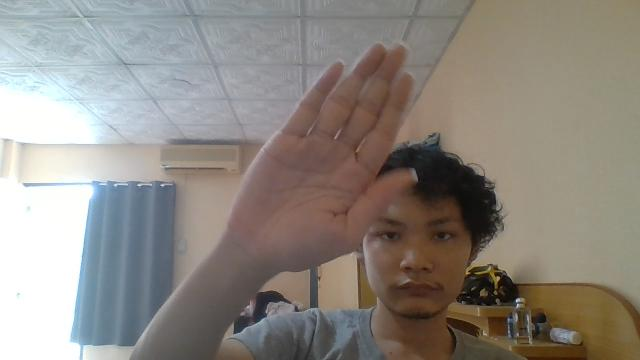Stop: (227, 41, 416, 274)
